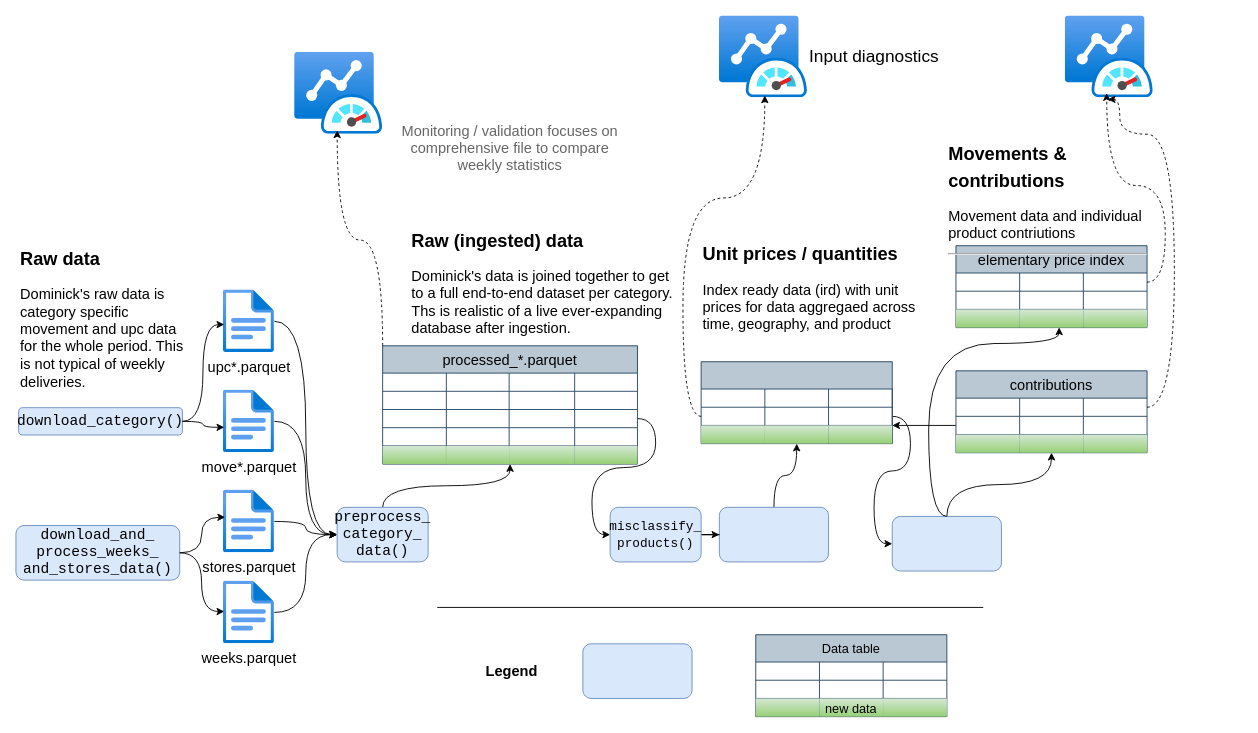
The diagram is 1258 pixels wide and 733 high, and some of its shapes have lost their labels. Each missing label, with the centre of its shape:
"aggregate_ homogenous_ products()" goes at point 773,534.
"Analytical (output) diagnostics" goes at point 1109,56.
"index_ready_data_*.parquet" goes at point 796,402.
"Monitoring / validation" goes at point 338,93.
"Multilateral price index method and contributions" goes at point 946,543.
"Process / script" goes at point 637,670.
